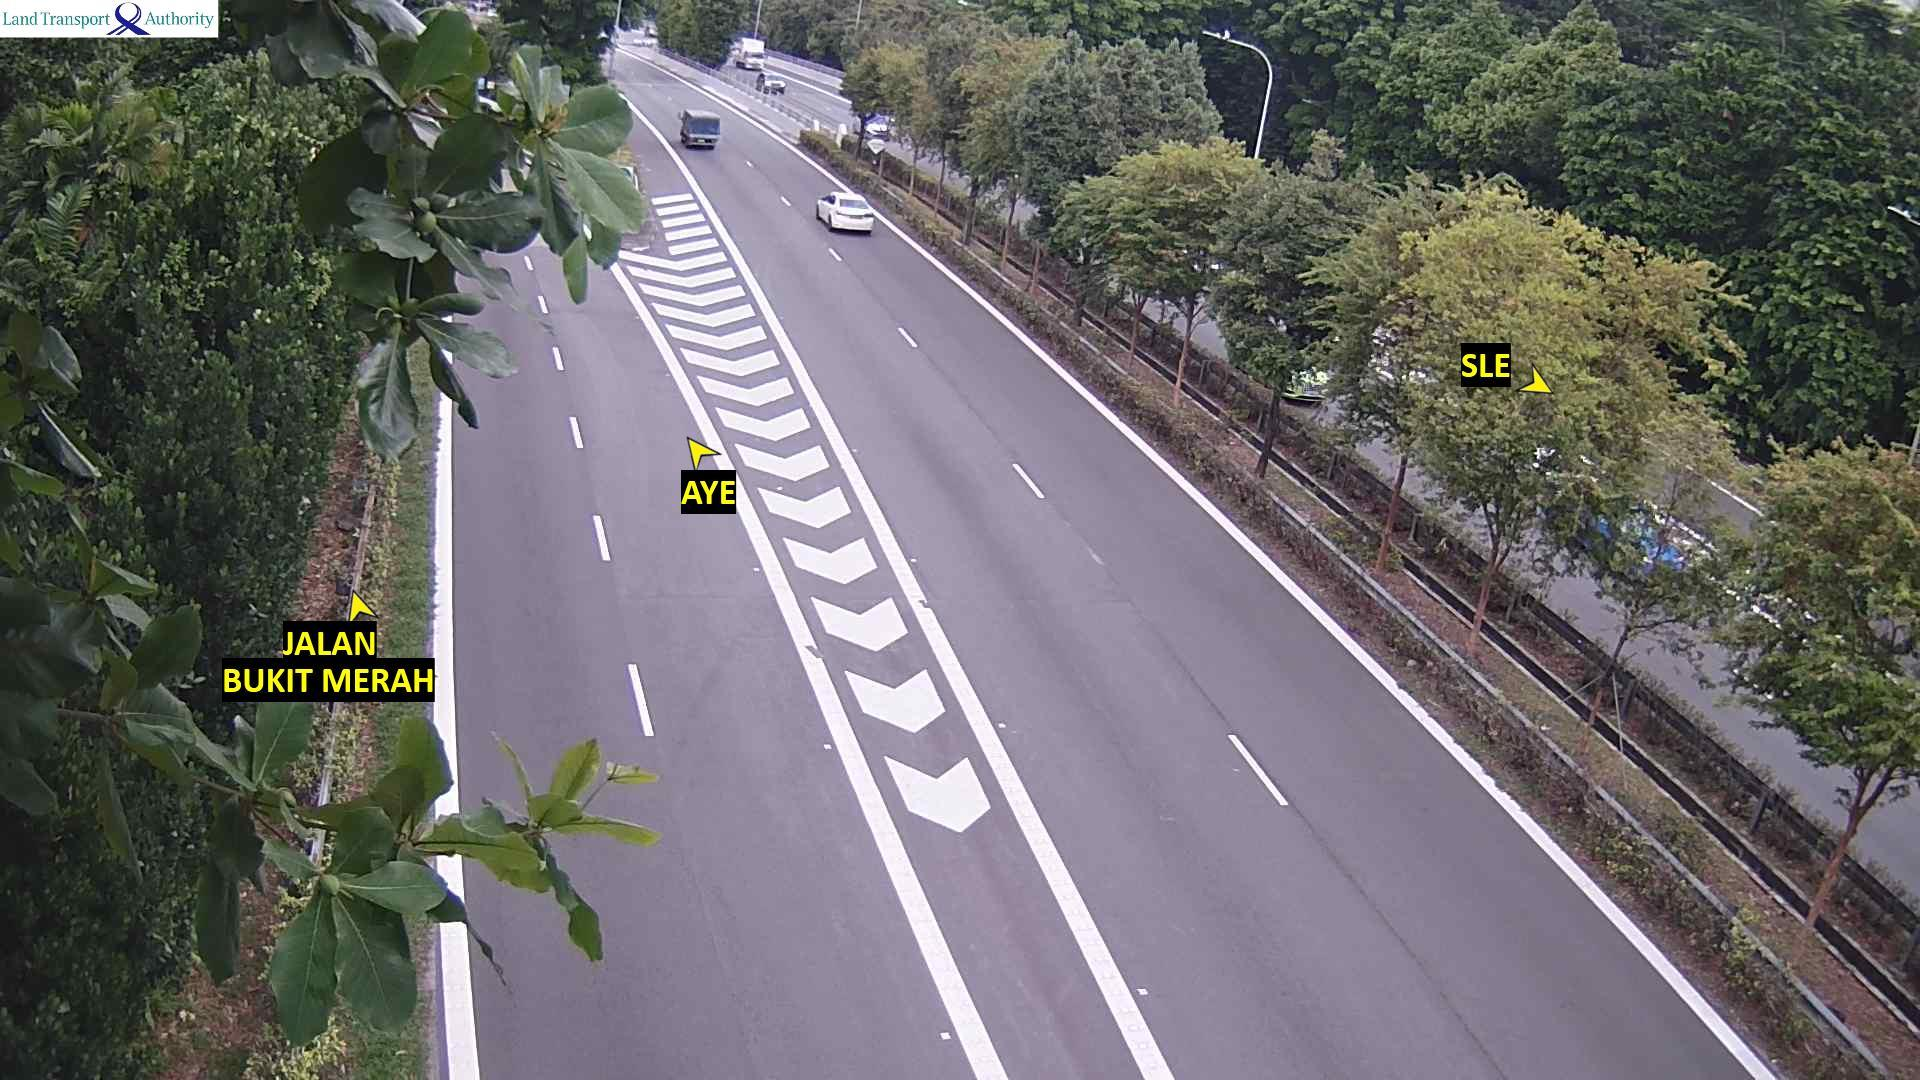incoming: (862, 115, 894, 141), (742, 49, 769, 71), (760, 74, 789, 94)
